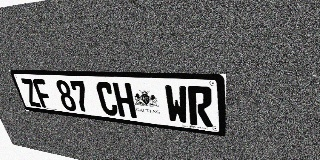7: (68, 80, 92, 113)
8: (54, 80, 78, 112)
C: (95, 82, 119, 116)
F: (32, 79, 54, 109)
H: (112, 82, 137, 118)
R: (187, 86, 213, 127)
W: (164, 85, 189, 124)
Z: (20, 78, 42, 107)
